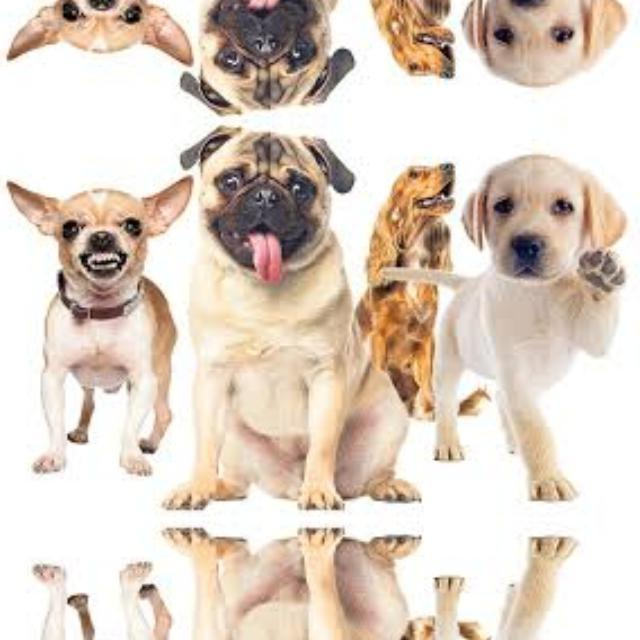dog: (168, 125, 378, 498), (428, 141, 634, 485), (1, 160, 196, 478), (168, 0, 378, 115), (168, 540, 378, 640), (428, 0, 634, 99), (428, 553, 634, 640), (1, 0, 196, 80), (1, 560, 196, 640)
